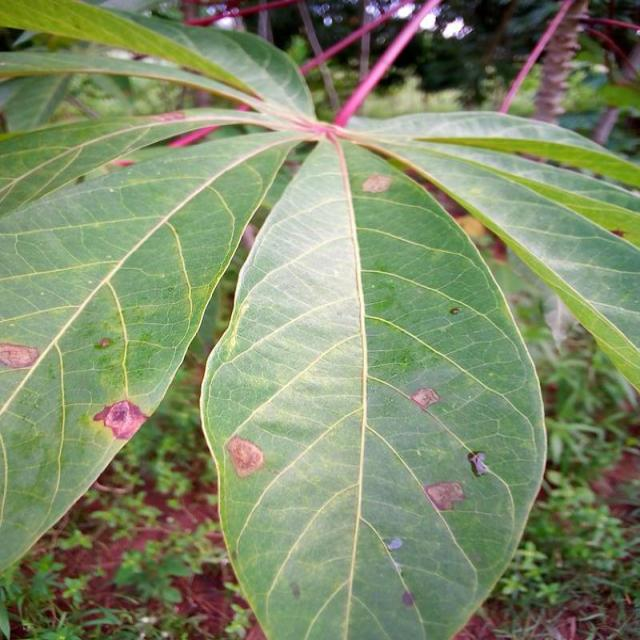cassava leaf: (199, 130, 549, 638), (1, 124, 318, 575)
